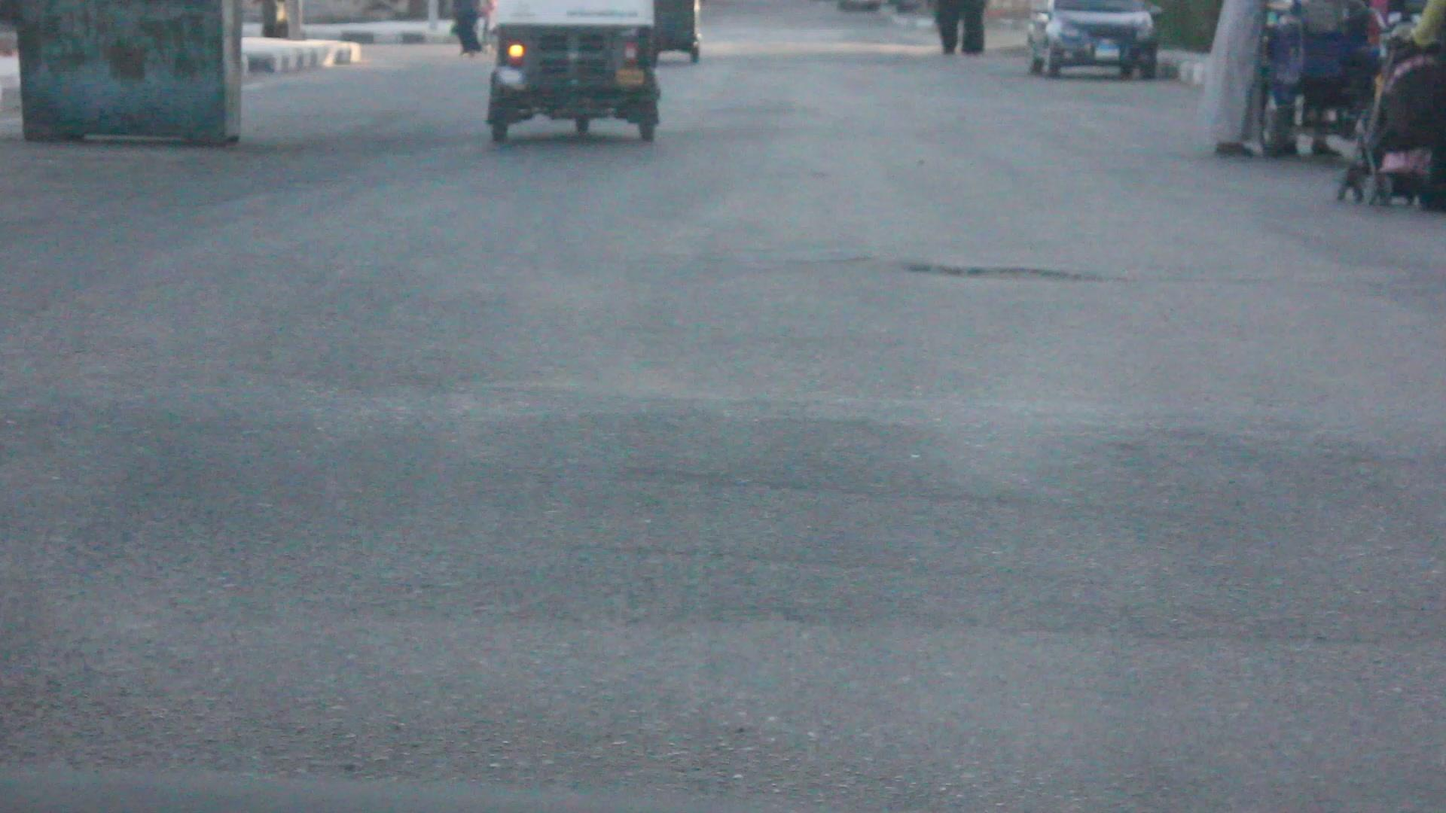Bump: (0, 356, 1445, 587)
